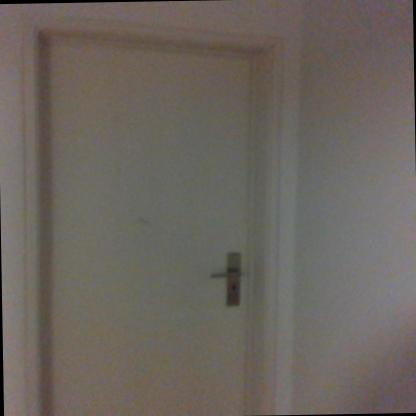closed: (2, 4, 303, 415)
